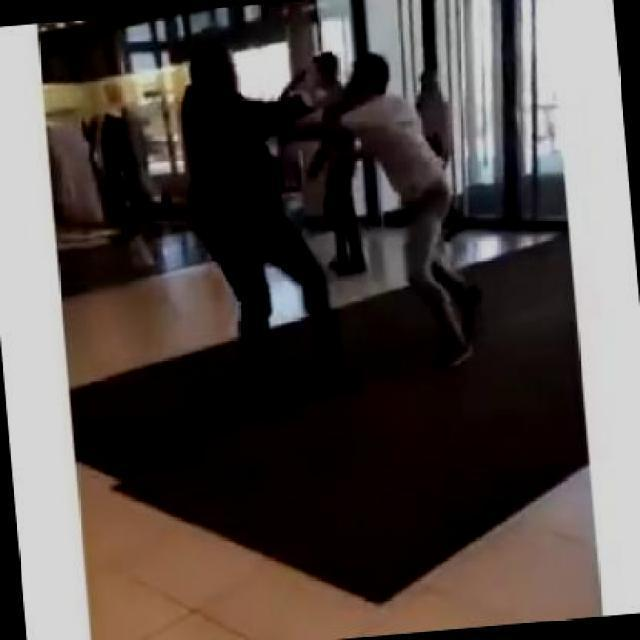fight: (172, 13, 485, 393)
